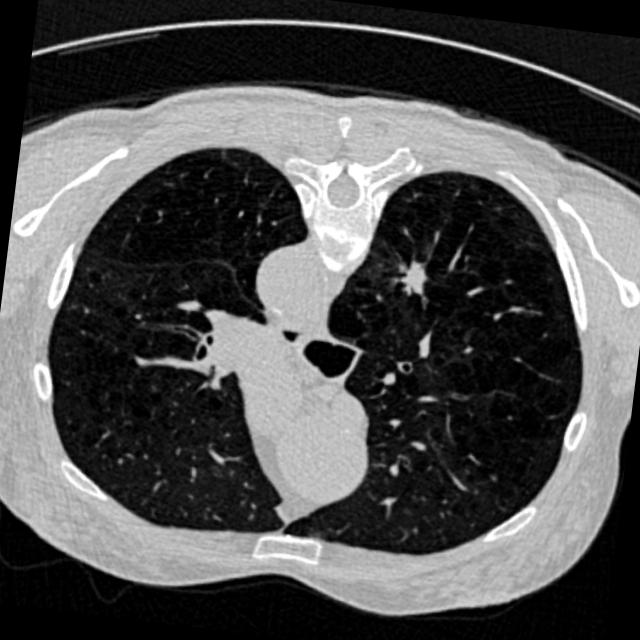nodule: (375, 240, 451, 316)
